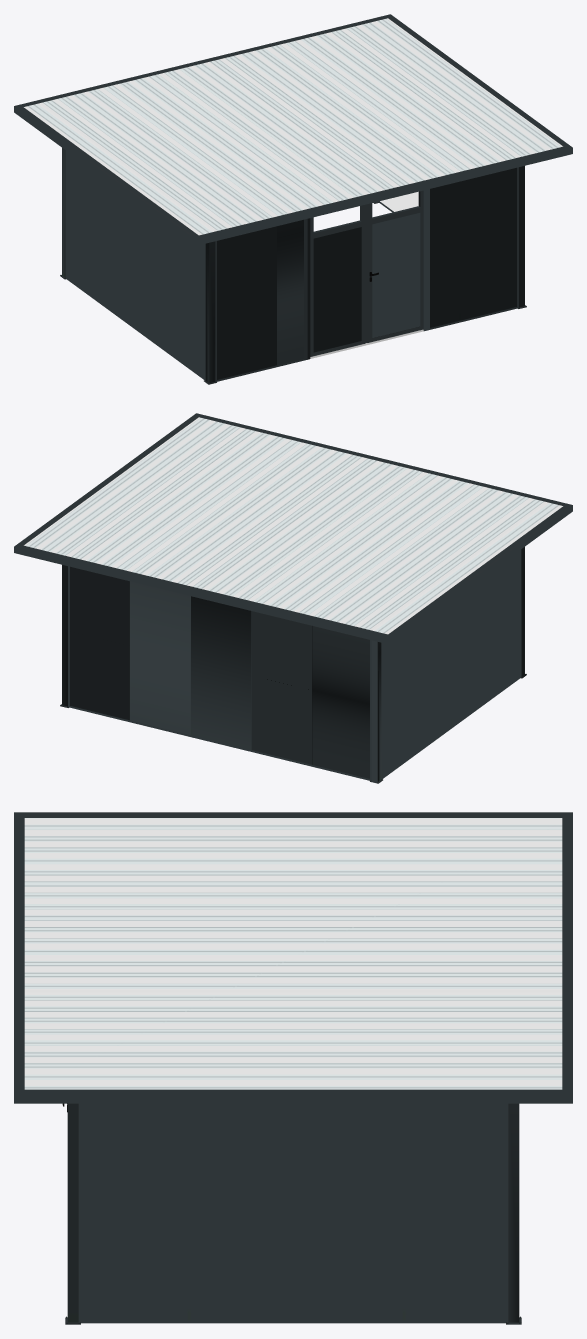
3 views of the same model, one above another, from view 1: azimuth 30°, elevation 25°; view 2: azimuth 150°, elevation 25°; view 3: azimuth 270°, elevation 25° (orthographic). The views are drawn at different scales.
Parts seen in each view (by area): view 1: priximbattable_net_abris_de_jardin_640008_abri_de_jardin_ane, folha, folha_2, porta_avec_hublot; view 2: priximbattable_net_abris_de_jardin_640008_abri_de_jardin_ane; view 3: priximbattable_net_abris_de_jardin_640008_abri_de_jardin_ane.
Part boxes in pixels (bbox=[...]): priximbattable_net_abris_de_jardin_640008_abri_de_jardin_ane: bbox=[14, 14, 572, 384]; folha: bbox=[310, 204, 368, 356]; folha_2: bbox=[367, 190, 423, 342]; porta_avec_hublot: bbox=[304, 189, 429, 360]; priximbattable_net_abris_de_jardin_640008_abri_de_jardin_ane: bbox=[14, 413, 572, 783]; priximbattable_net_abris_de_jardin_640008_abri_de_jardin_ane: bbox=[14, 812, 572, 1324].
Bounding box in the file's own units: 620 × 259 × 520.
1 material, 1 textured.
